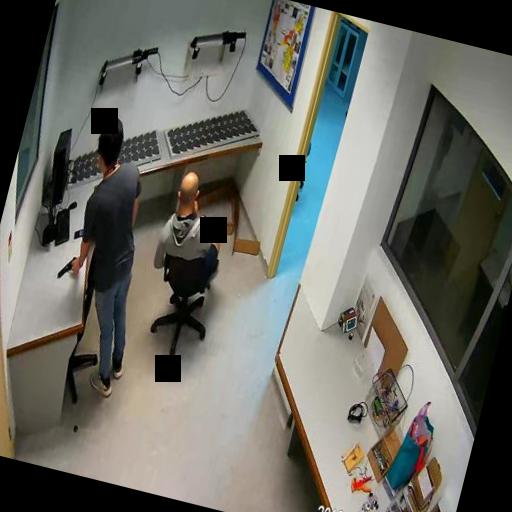Handgun: (52, 250, 86, 284)
